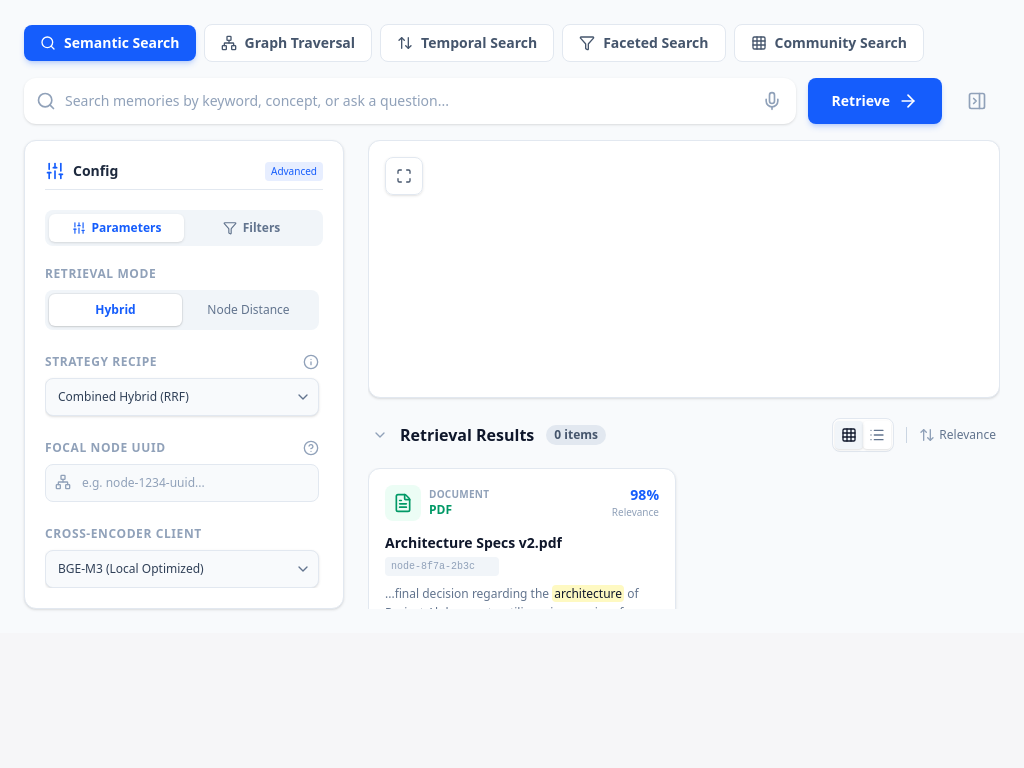
Test: EnhancedSearch › Search Mode Buttons › switches to Faceted Search mode
Click the button "Faceted Search".
click(644, 43)  # box x1=562 y1=24 x2=726 y2=62
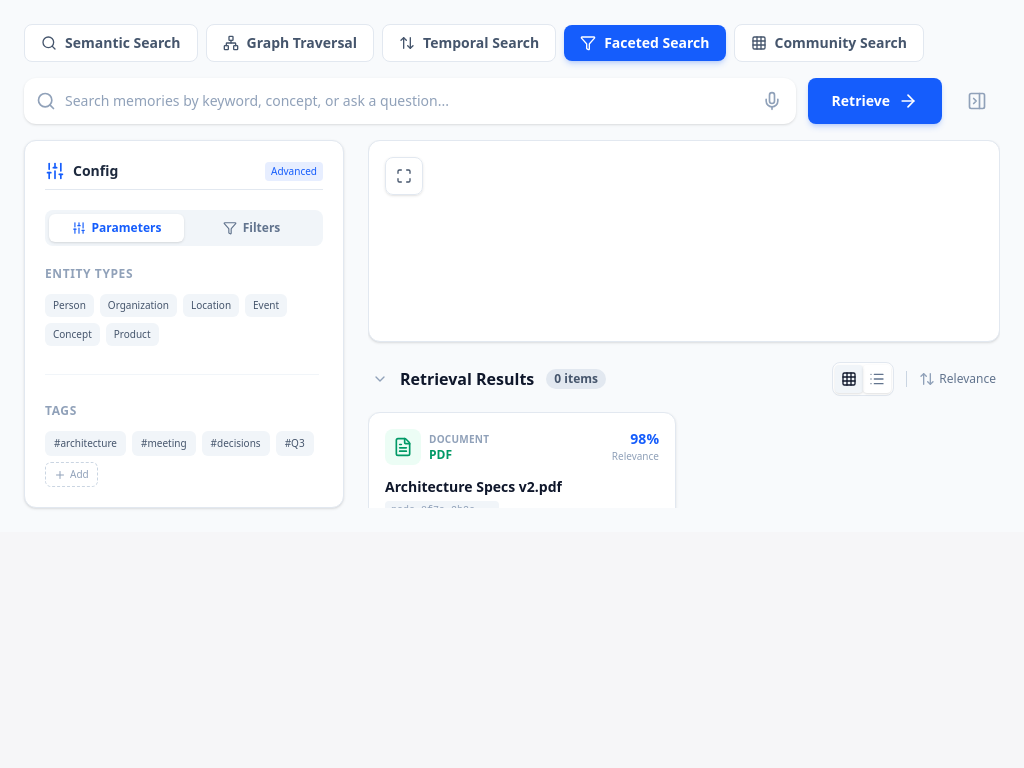
Result: the heading "Entity Types" is shown at x1=45 y1=266 x2=133 y2=282
